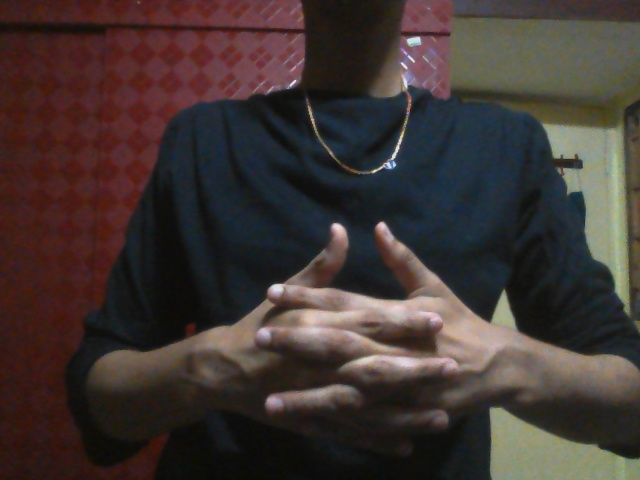W: (228, 217, 493, 460)
